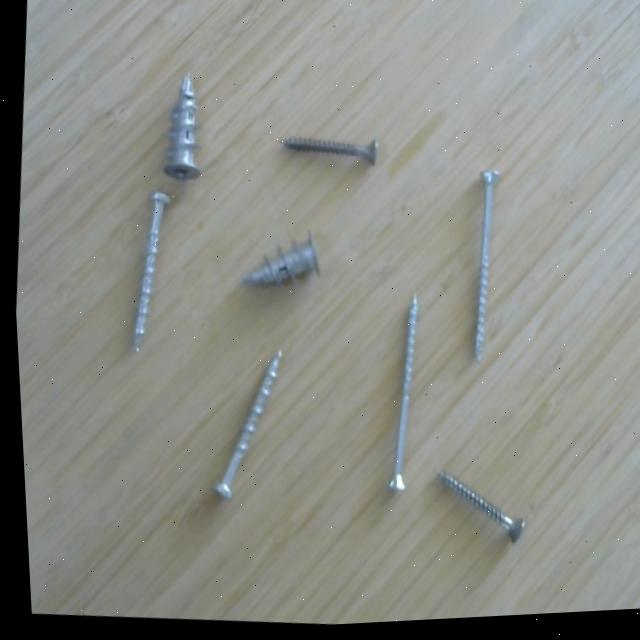Black screw: (422, 464, 531, 557), (266, 129, 395, 179)
Long screw: (450, 162, 511, 372), (370, 288, 425, 500)
Medium screw: (195, 341, 290, 517), (114, 186, 178, 361)
Short screw: (231, 226, 328, 312), (153, 64, 208, 185)
